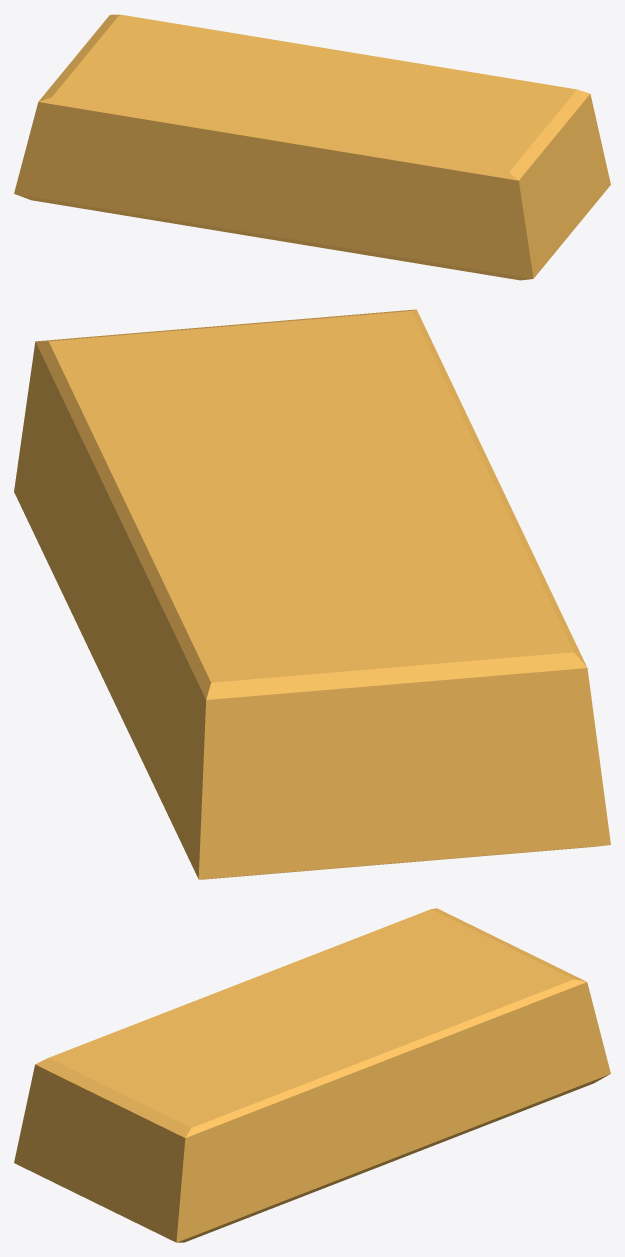
Rendered from Gold.glb.
3 views of the same model, one above another, from view 1: azimuth 30°, elevation 25°; view 2: azimuth 150°, elevation 25°; view 3: azimuth 270°, elevation 25° (orthographic). The views are drawn at different scales.
Visible parts, largest first — view 1: Gold; view 2: Gold; view 3: Gold.
Boxes of the visible parts, <box> form: Gold: <box>14,14,610,280</box>; Gold: <box>14,309,610,879</box>; Gold: <box>14,908,610,1242</box>.
Bounding box in the file's own units: 0.6579 × 0.1504 × 0.6963.
